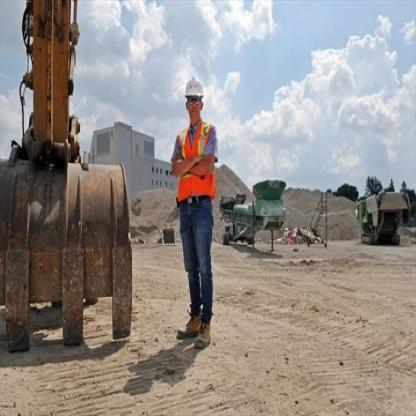person: (168, 63, 221, 348)
